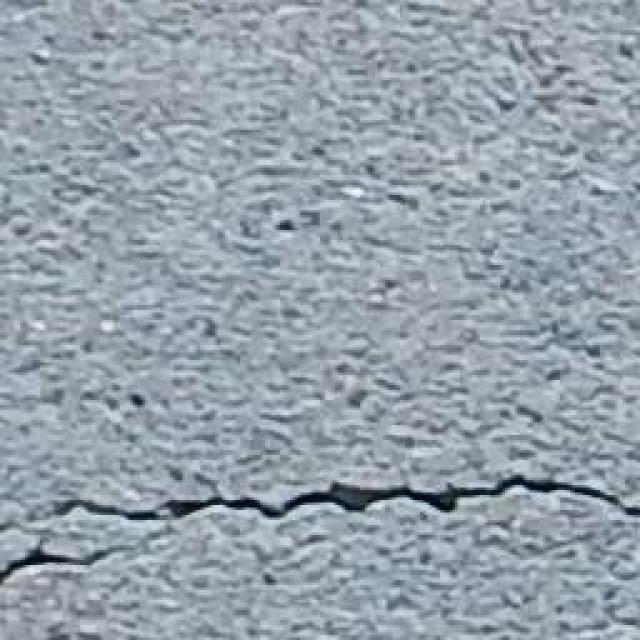concrete-crack: (35, 475, 640, 520)
